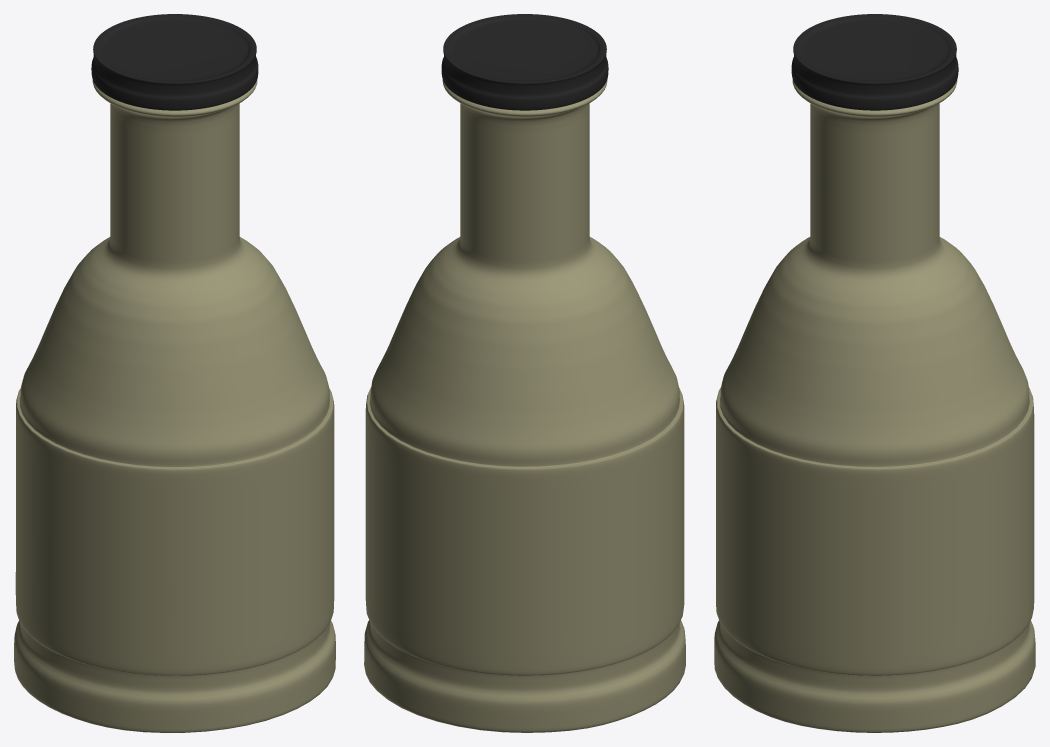
Rendered from VanillaBottle.fbx.
3 views of the same model, side by side, from view 1: azimuth 30°, elevation 25°; view 2: azimuth 150°, elevation 25°; view 3: azimuth 270°, elevation 25° (orthographic).
Parts seen in each view (by area): view 1: Bottle, Cap; view 2: Bottle, Cap; view 3: Bottle, Cap.
Part boxes in pixels (x1,y1,x2,y2): Bottle: [14, 80, 335, 732]; Cap: [91, 14, 258, 110]; Bottle: [364, 79, 685, 732]; Cap: [441, 14, 608, 110]; Bottle: [714, 79, 1035, 732]; Cap: [791, 14, 958, 110].
Size of the model in its own units: 19.39 by 41.3 by 19.37.
